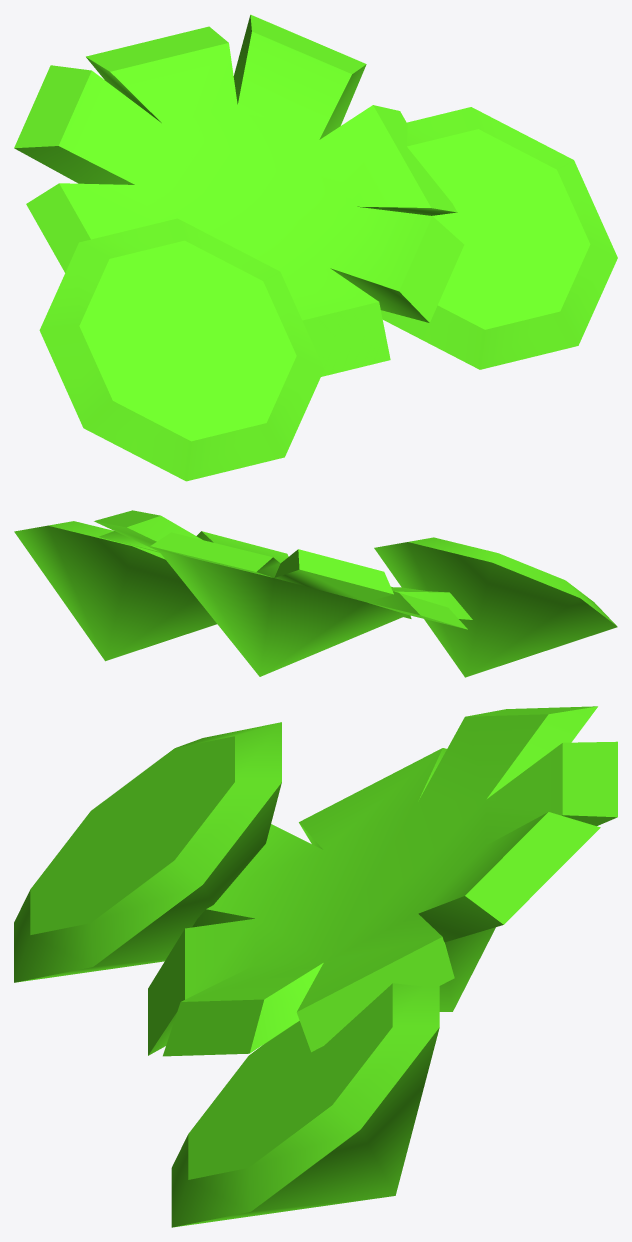
File: SM_Flower_16.FBX
3 renders of one model, top to bottom at view 1: azimuth 30°, elevation 25°; view 2: azimuth 150°, elevation 25°; view 3: azimuth 270°, elevation 25°, orthographic. The views are drawn at different scales.
Visible parts, largest first — view 1: 16; view 2: 16; view 3: 16.
Boxes of the visible parts, left/top/right/bottom form: 16: left=14, top=14, right=617, bottom=481; 16: left=14, top=510, right=617, bottom=677; 16: left=14, top=706, right=617, bottom=1227.
Size of the model in its own units: 2.5 by 0.9852 by 1.75.
